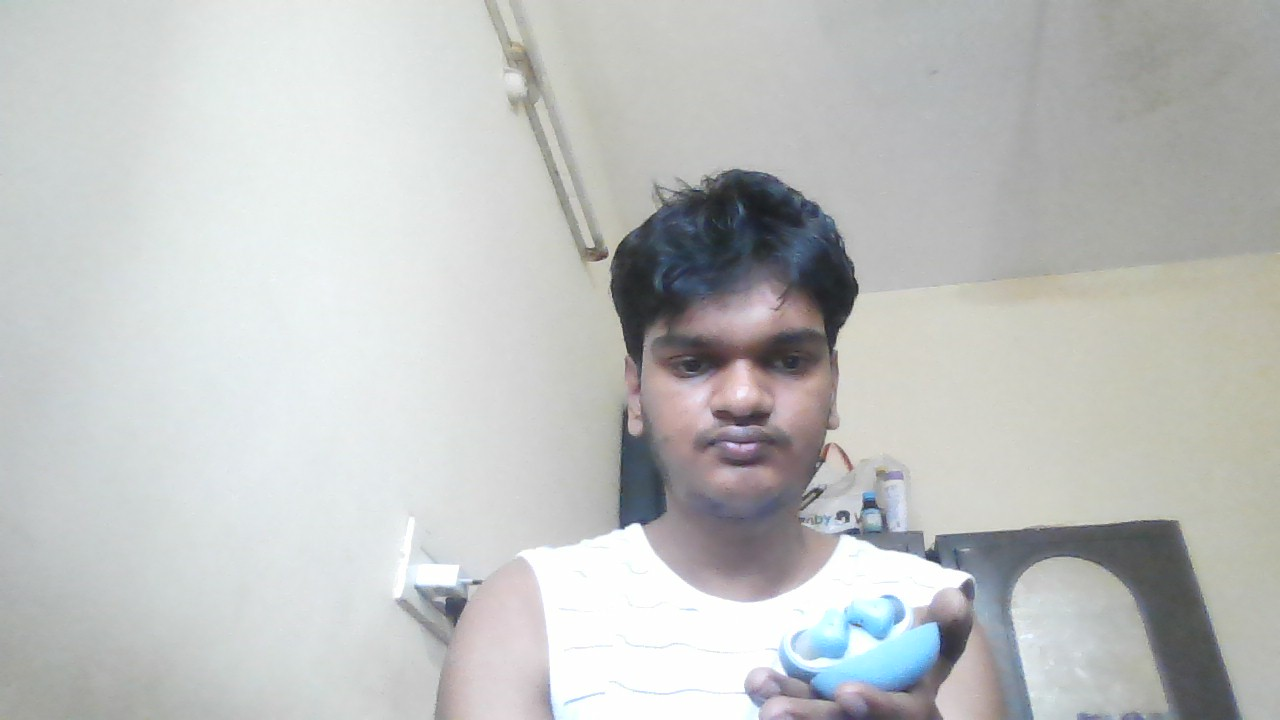earphone: (785, 592, 919, 679)
